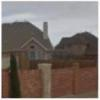chimneys: (43, 21, 49, 40)
